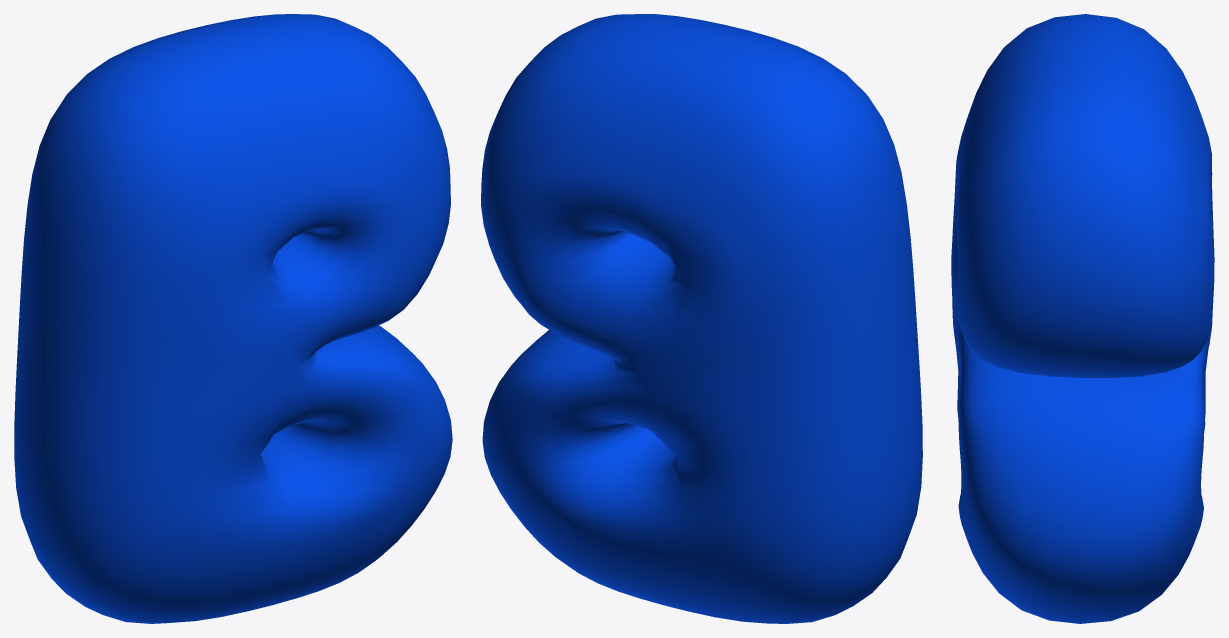
3 views of the same model, side by side, from view 1: azimuth 30°, elevation 25°; view 2: azimuth 150°, elevation 25°; view 3: azimuth 270°, elevation 25° (orthographic). The views are drawn at different scales.
Visible parts, largest first — view 1: Object_6; view 2: Object_6; view 3: Object_6.
Boxes of the visible parts, x1,y1,x2,y2 form: Object_6: (14,14,452,623); Object_6: (481,14,922,623); Object_6: (951,14,1214,623).
Size of the model in its own units: 74.2 by 101 by 44.55.
